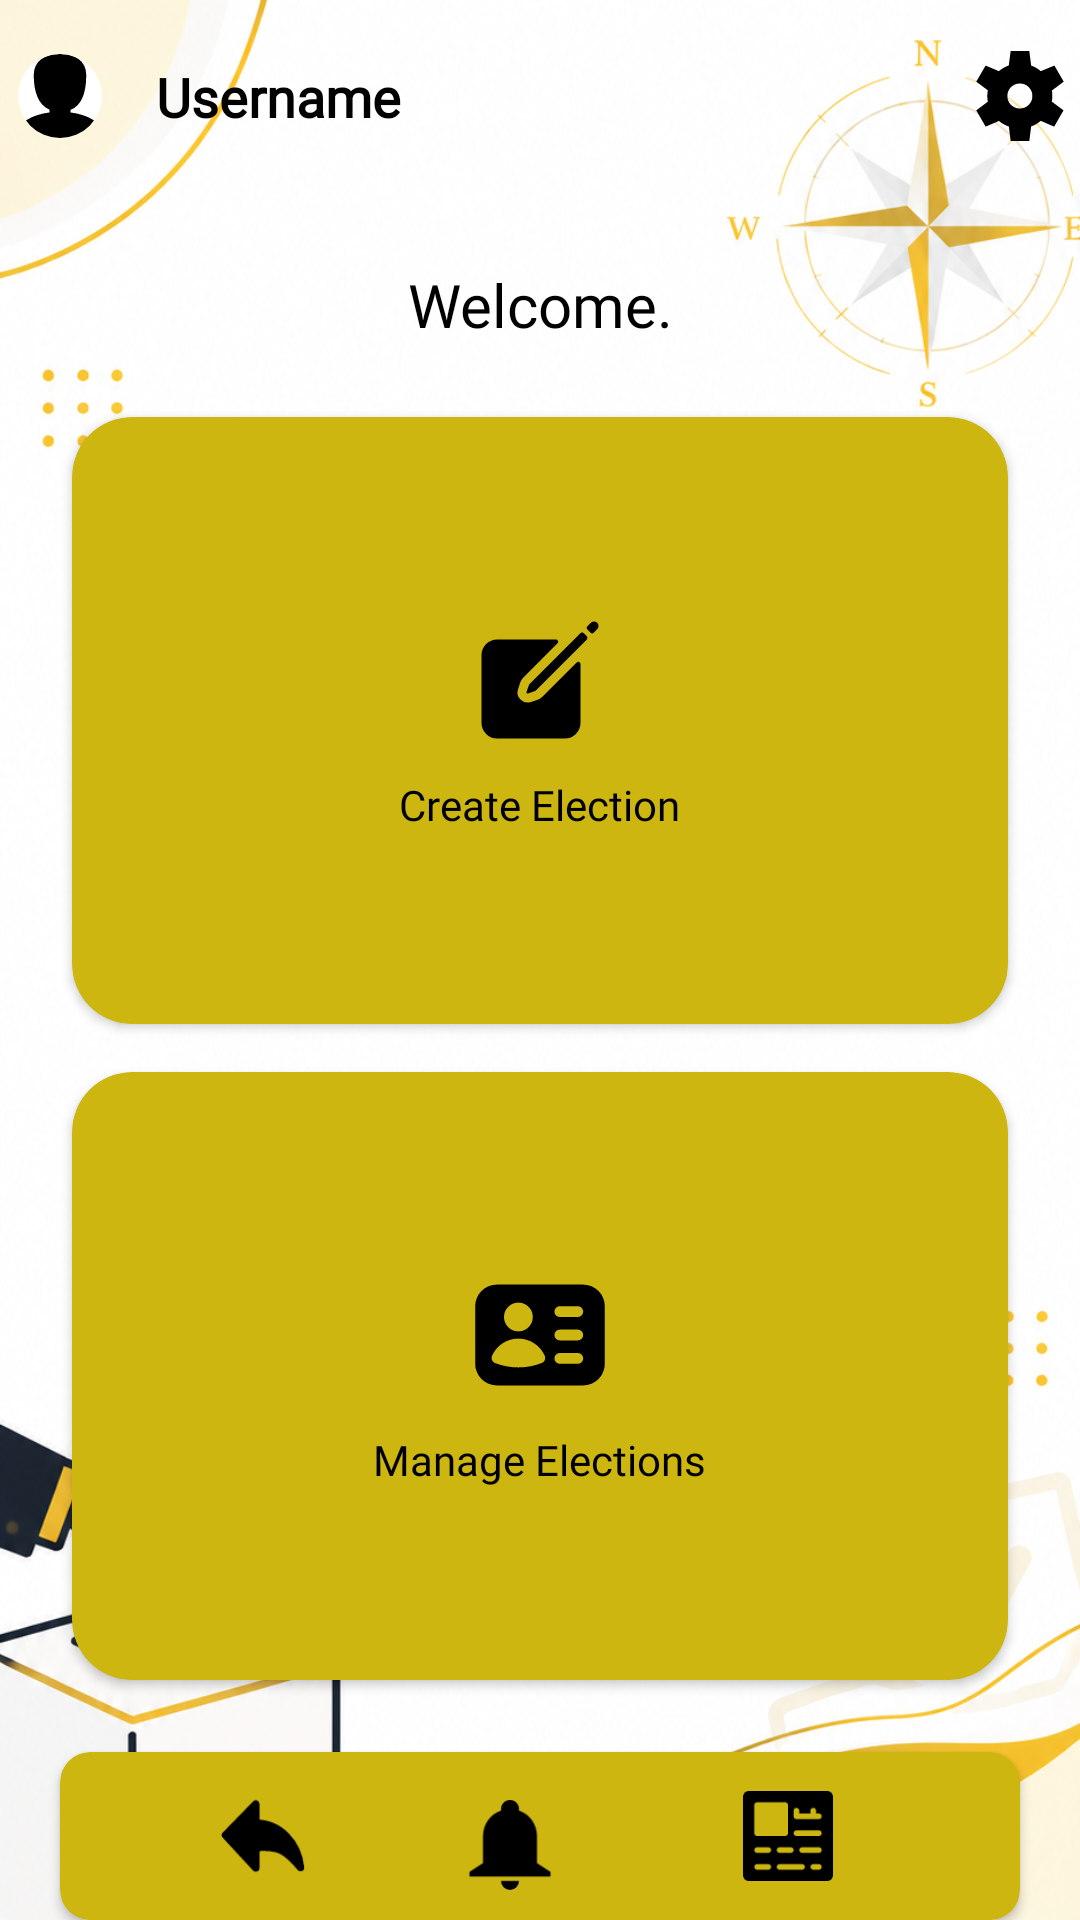

Where to tap for icons on this 1080 × 1920 app screen, as point (x, y):
Back: point (263, 1836)
news: point (788, 1836)
Notifications: point (510, 1845)
profile: point (60, 96)
Registered Elections Icon: point (540, 1335)
Settings: point (1012, 103)
